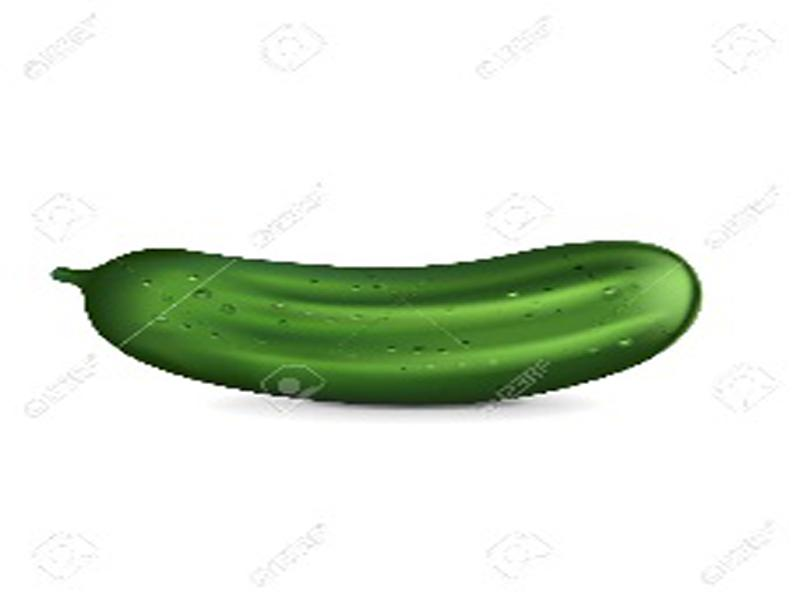Cucumber: (53, 241, 701, 407)
